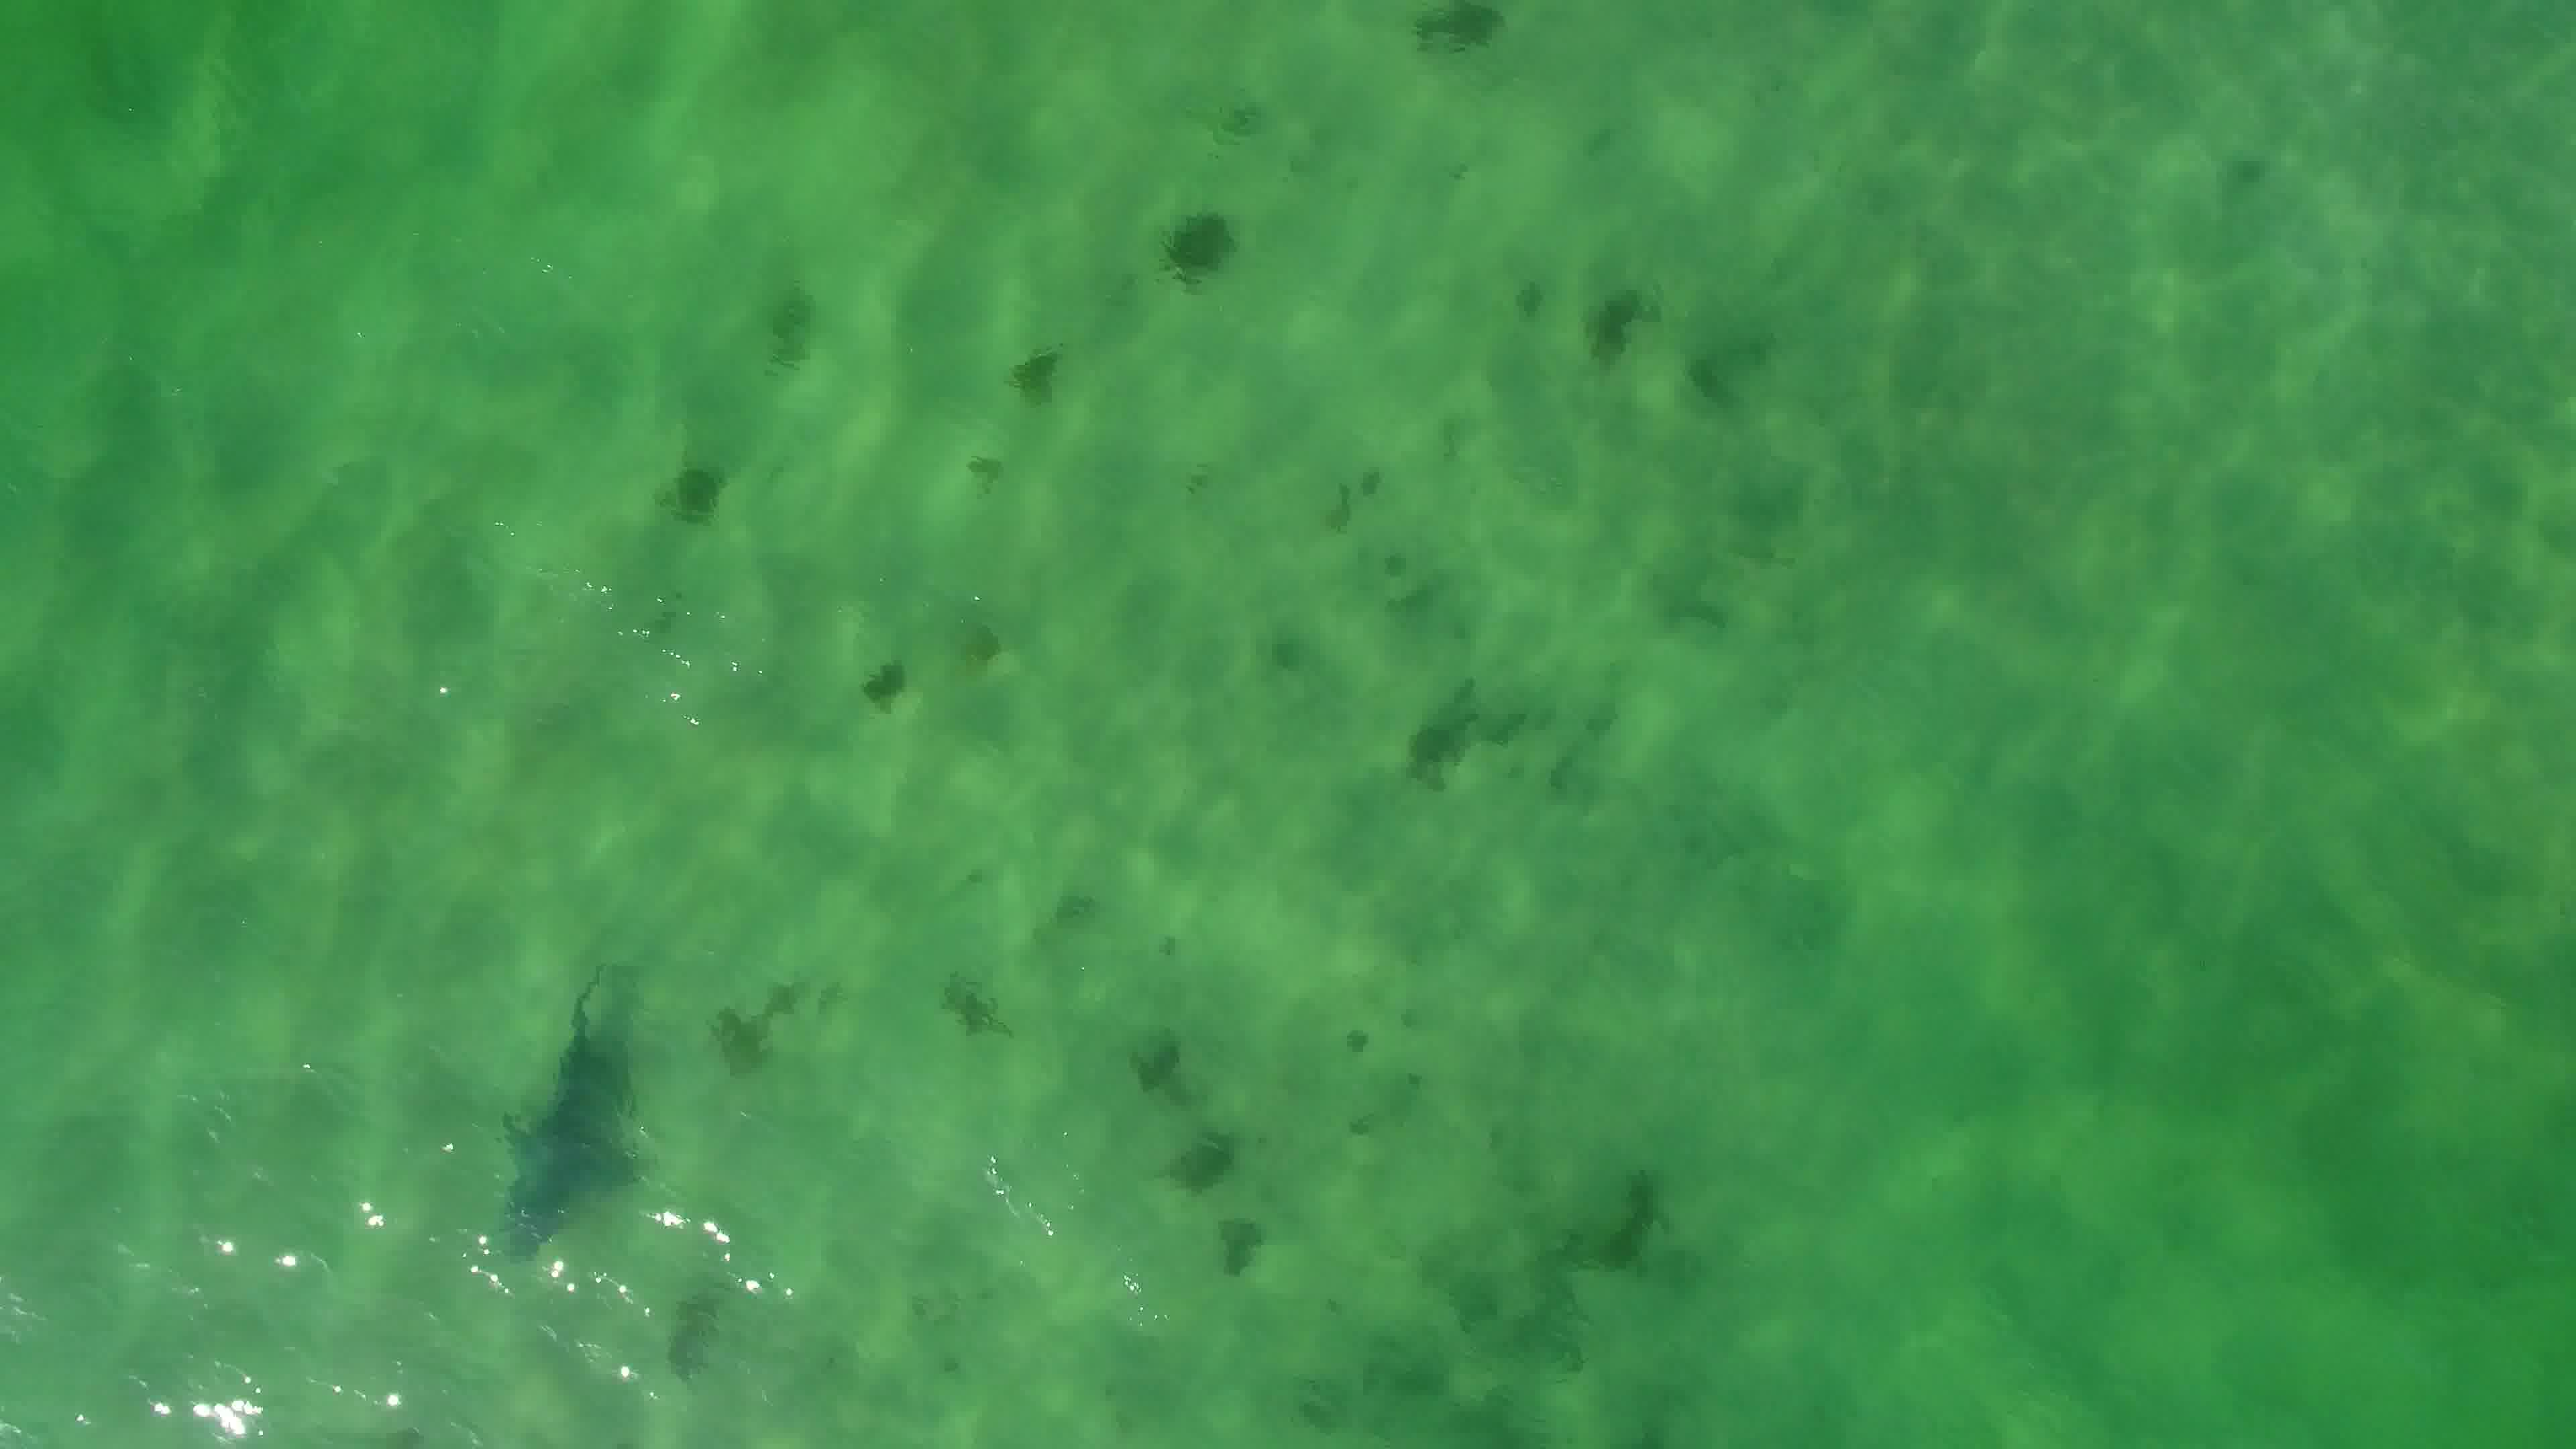shark: (485, 950, 646, 1261)
